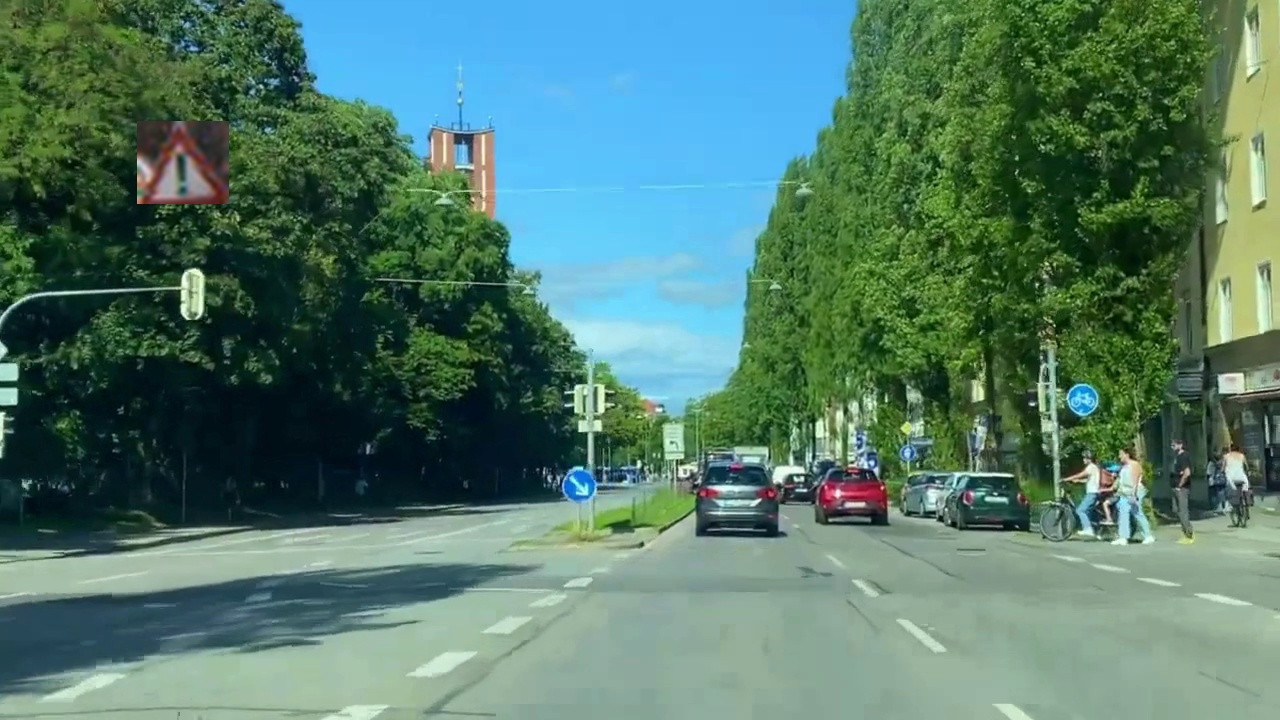Caution: (137, 121, 229, 204)
